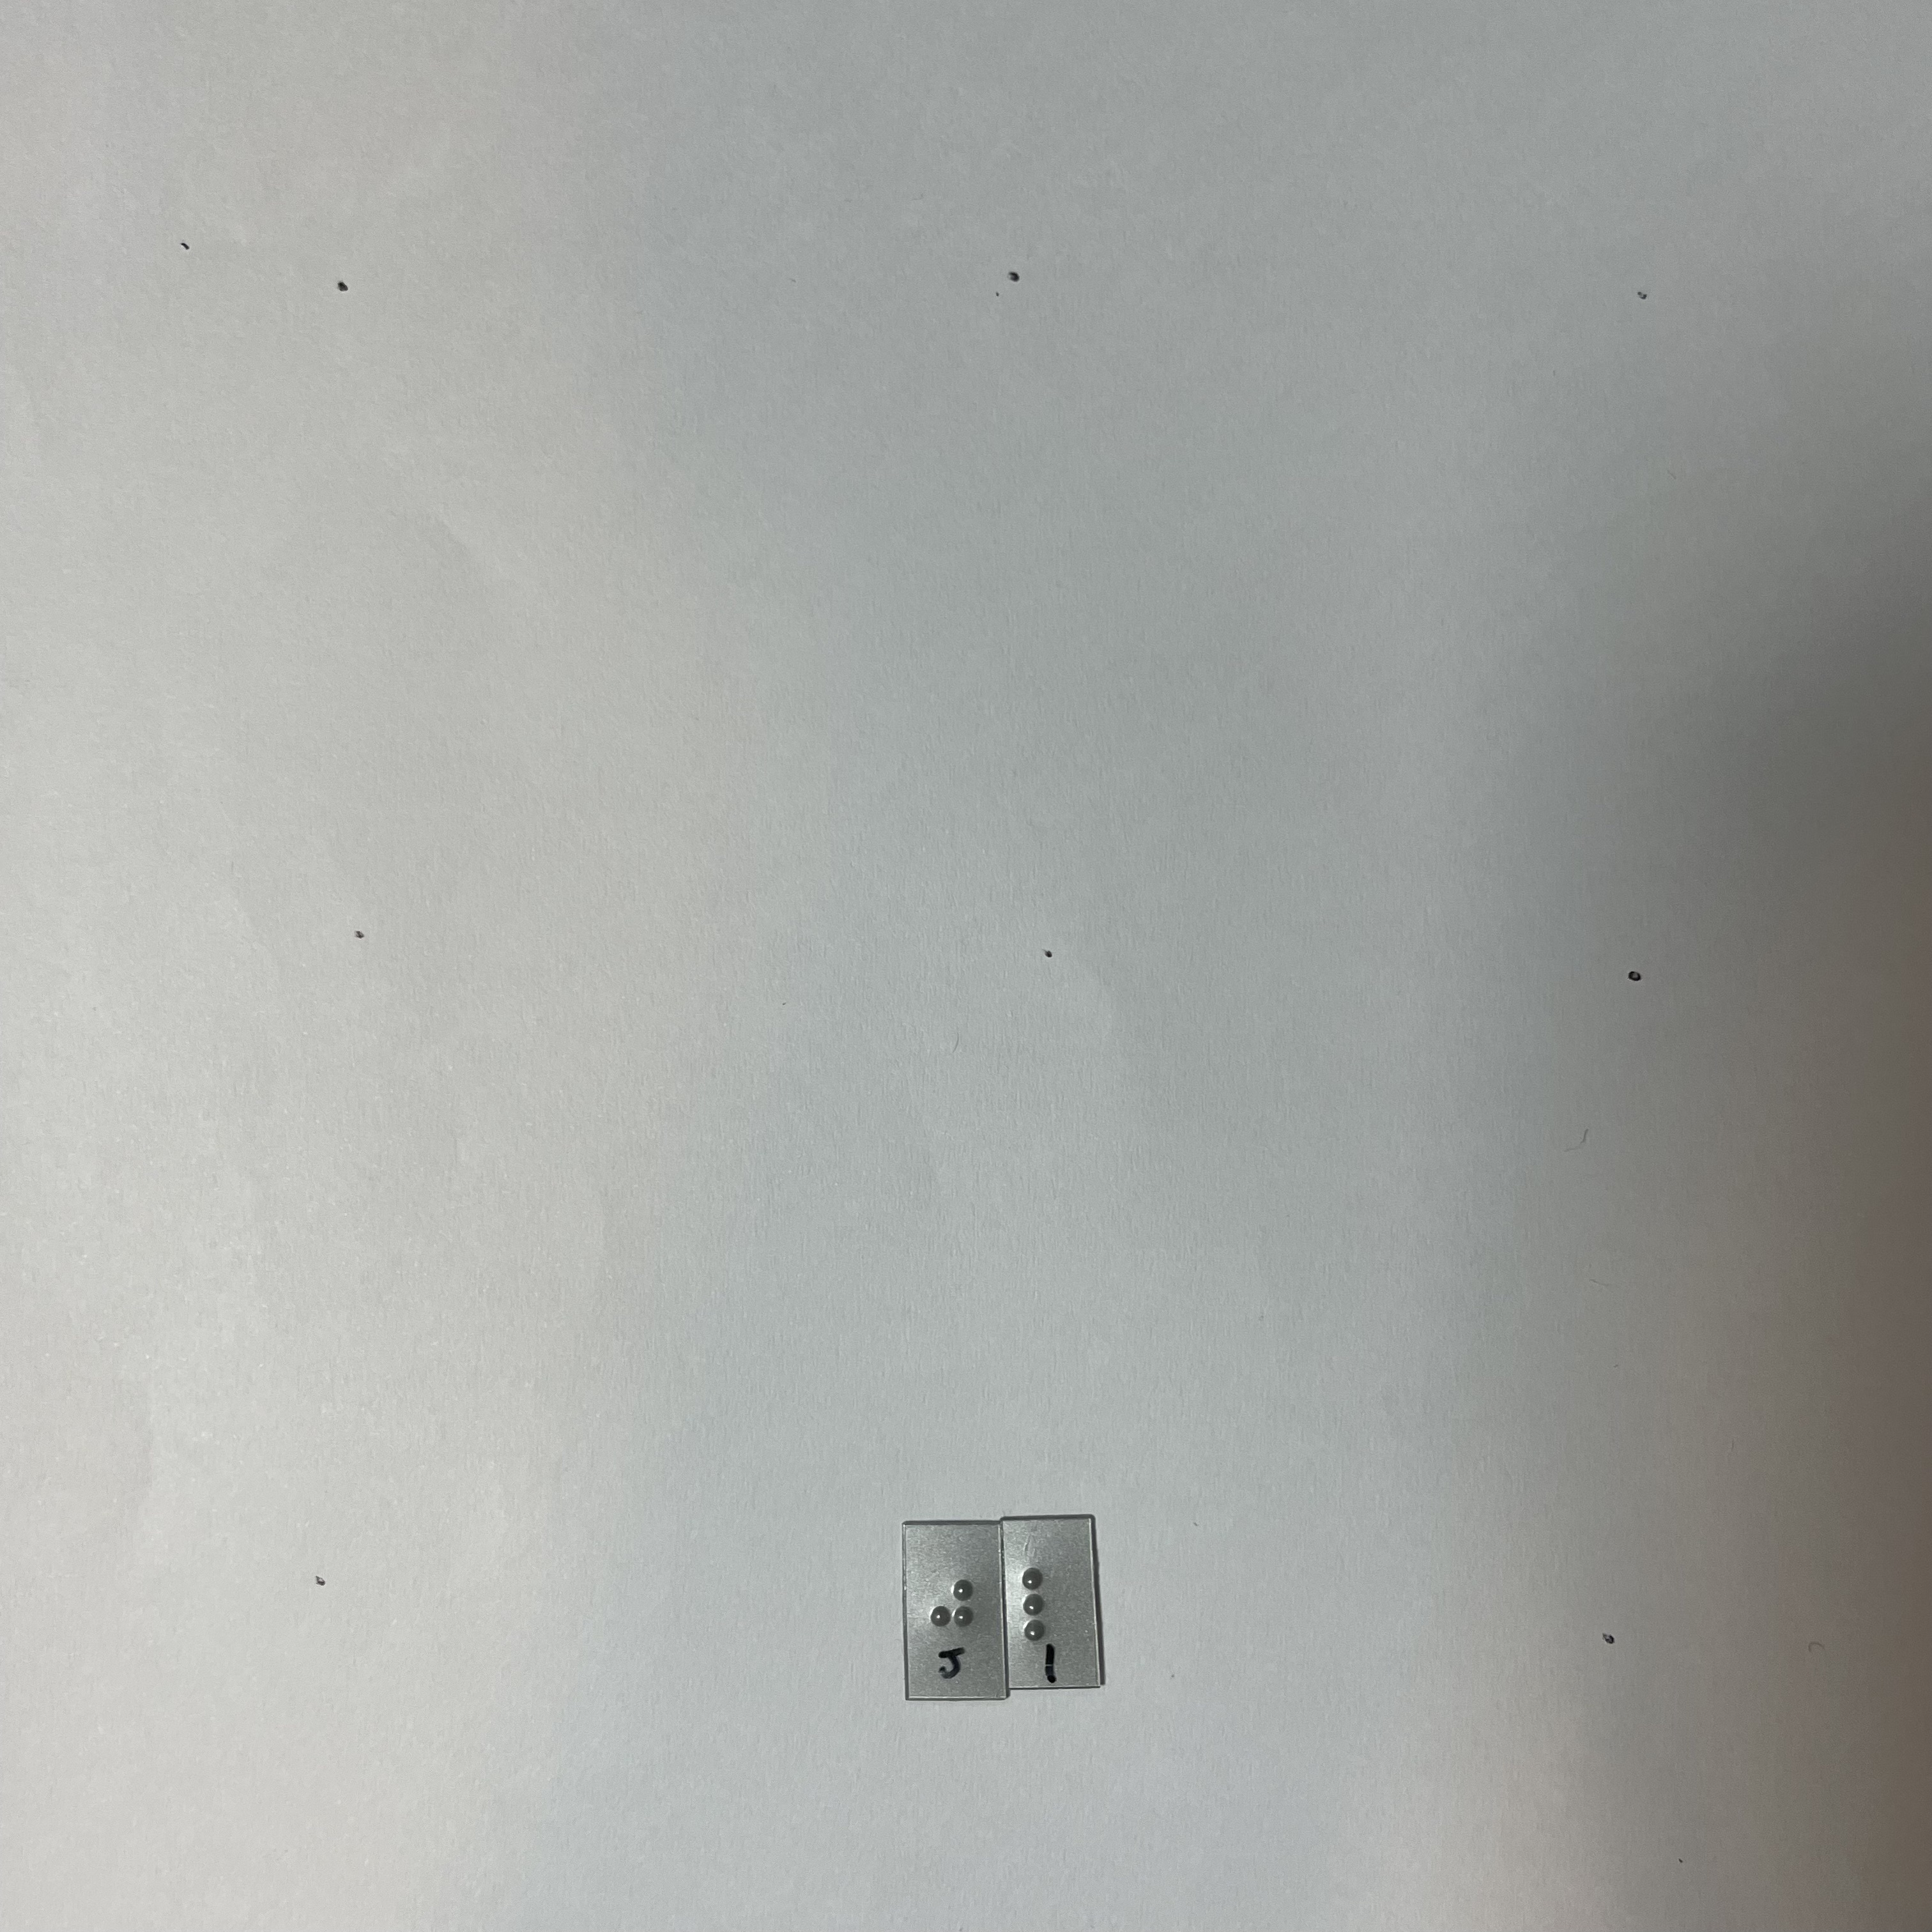j: (924, 1577, 979, 1646)
l: (1011, 1560, 1071, 1646)
